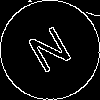N: (25, 25, 79, 83)
